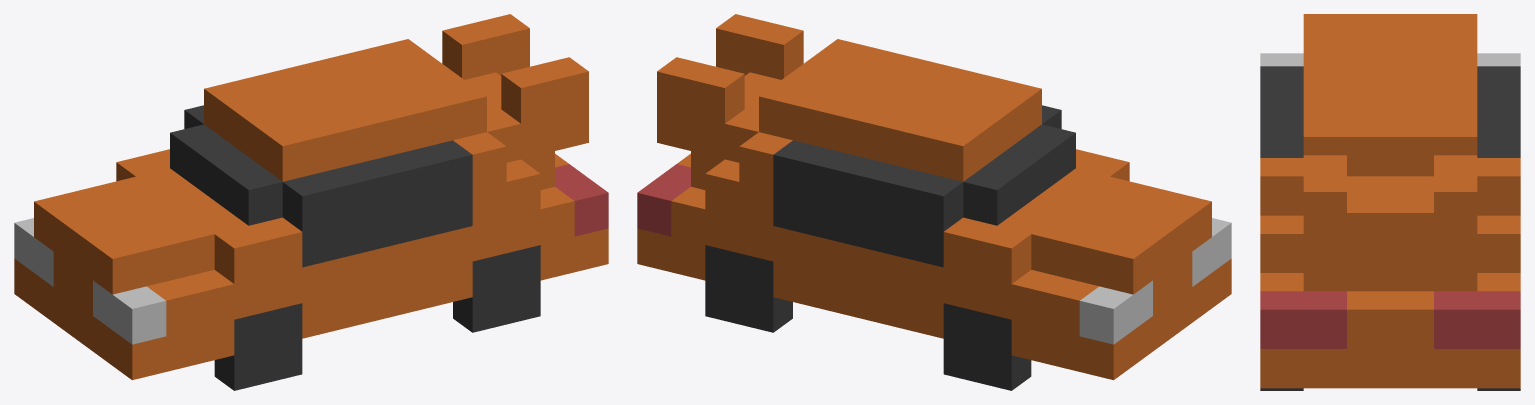
File: racer-v5-orange.gltf
3 renders of one model, left to right at view 1: azimuth 30°, elevation 25°; view 2: azimuth 150°, elevation 25°; view 3: azimuth 270°, elevation 25°, orthographic. The views are drawn at different scales.
Visible parts, largest first — view 1: model, wheels; view 2: model, wheels; view 3: model, wheels.
Part boxes in pixels (box(x1,y1,x2,y2)): model: box(14, 14, 608, 380); wheels: box(214, 245, 540, 390); model: box(637, 14, 1231, 380); wheels: box(705, 245, 1031, 390); model: box(1260, 14, 1520, 388); wheels: box(1260, 388, 1520, 390).
Size of the model in its own units: 1.4 by 0.6 by 0.6.
Materials: 2 (2 with a texture image).
